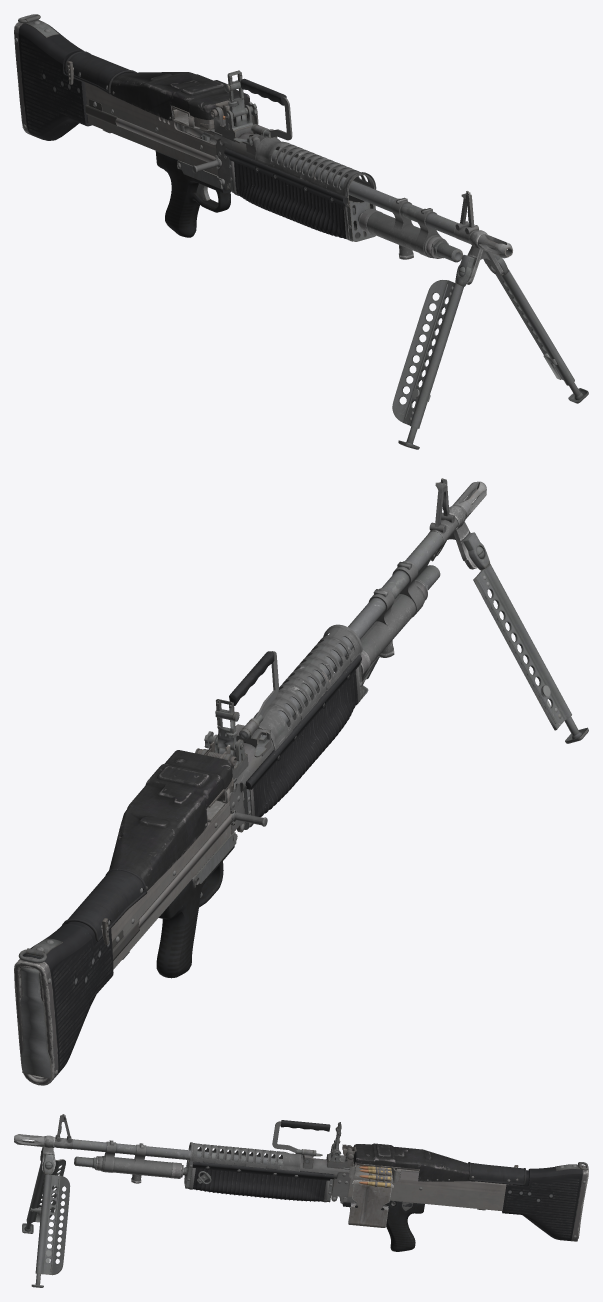
Rendered from arm8.glb.
3 views of the same model, one above another, from view 1: azimuth 30°, elevation 25°; view 2: azimuth 150°, elevation 25°; view 3: azimuth 270°, elevation 25° (orthographic). The views are drawn at different scales.
Parts seen in each view (by area): view 1: gee_low2, coilCyl_low2, BiL_low2, BiLegA_low2, HandleMetal_low2; view 2: gee_low2, coilCyl_low2, BiL_low2, HandleMetal_low2; view 3: gee_low2, coilCyl_low2, BiLegA_low2, BiL_low2, HandleMetal_low2, projectileE_low2.
Boxes of the visible parts, bbox=[...] form: gee_low2: bbox=[14, 14, 512, 284]; coilCyl_low2: bbox=[65, 51, 250, 122]; BiL_low2: bbox=[392, 255, 474, 449]; BiLegA_low2: bbox=[494, 254, 588, 403]; HandleMetal_low2: bbox=[240, 78, 292, 140]; gee_low2: bbox=[14, 478, 486, 1085]; coilCyl_low2: bbox=[62, 741, 232, 944]; BiL_low2: bbox=[463, 532, 588, 743]; HandleMetal_low2: bbox=[229, 651, 278, 740]; gee_low2: bbox=[14, 1114, 588, 1251]; coilCyl_low2: bbox=[342, 1143, 526, 1185]; BiLegA_low2: bbox=[31, 1154, 70, 1287]; BiL_low2: bbox=[22, 1151, 65, 1233]; HandleMetal_low2: bbox=[272, 1120, 330, 1156]; projectileE_low2: bbox=[359, 1165, 391, 1188].
Size of the model in its own units: 0.2837 by 0.3104 by 1.1.
Materials: 8 (8 with a texture image).
